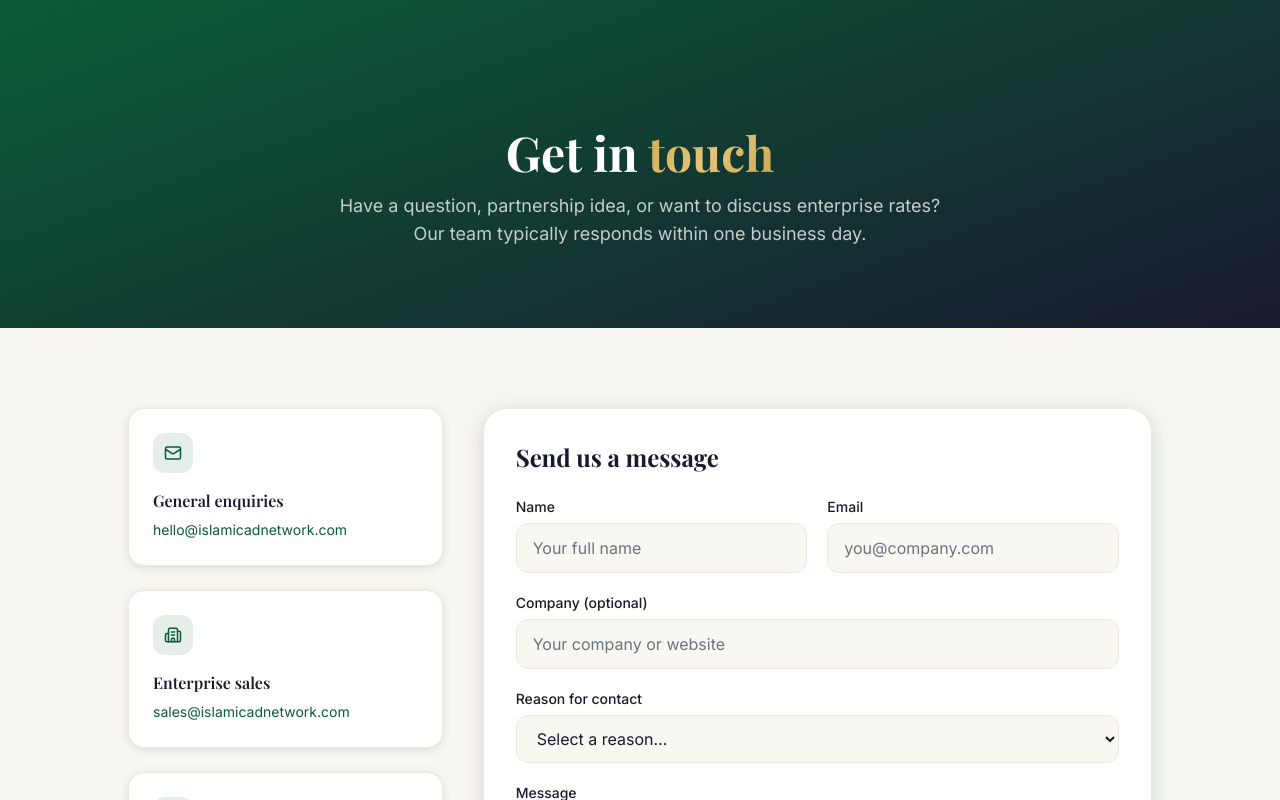
ContactForm › TC-C-096: shows success state after form submission
Type "Ahmad" into the field with placeholder "Your full name".
click(662, 548); type("Ahmad")  # box [516, 523, 807, 573]
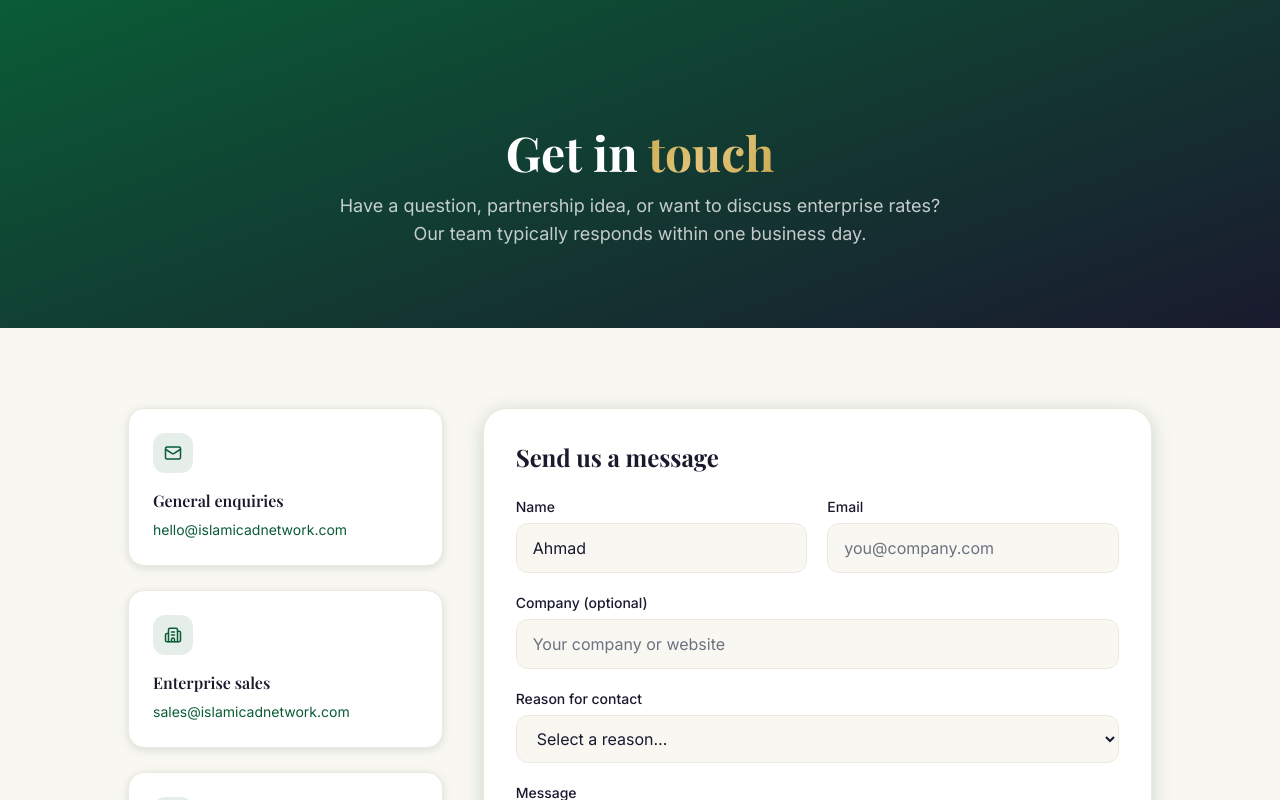
Type "a@b.com" into the field with placeholder "you@company.com".
click(973, 548); type("a@b.com")  # box [827, 523, 1119, 573]
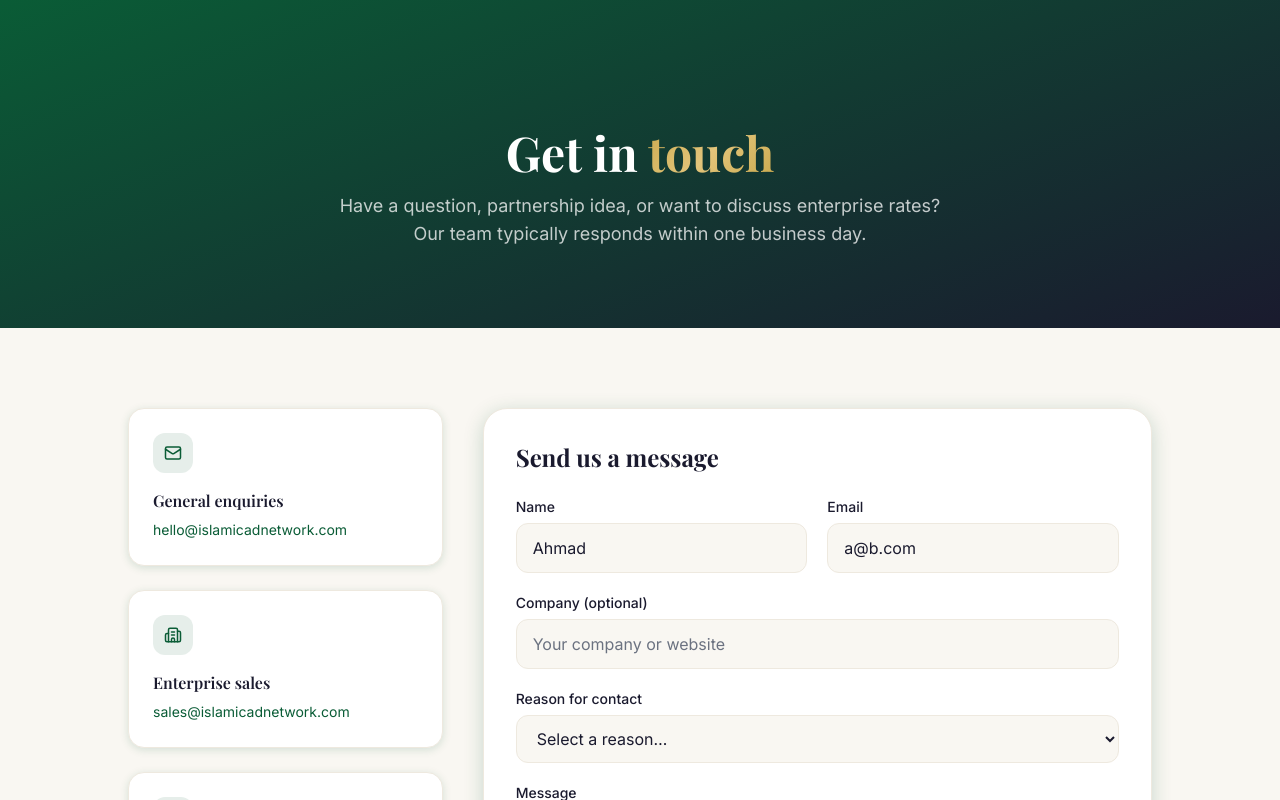
Select "I want to advertise" in the dropdown at [817, 739], box [516, 715, 1119, 763]
(page scrolled)
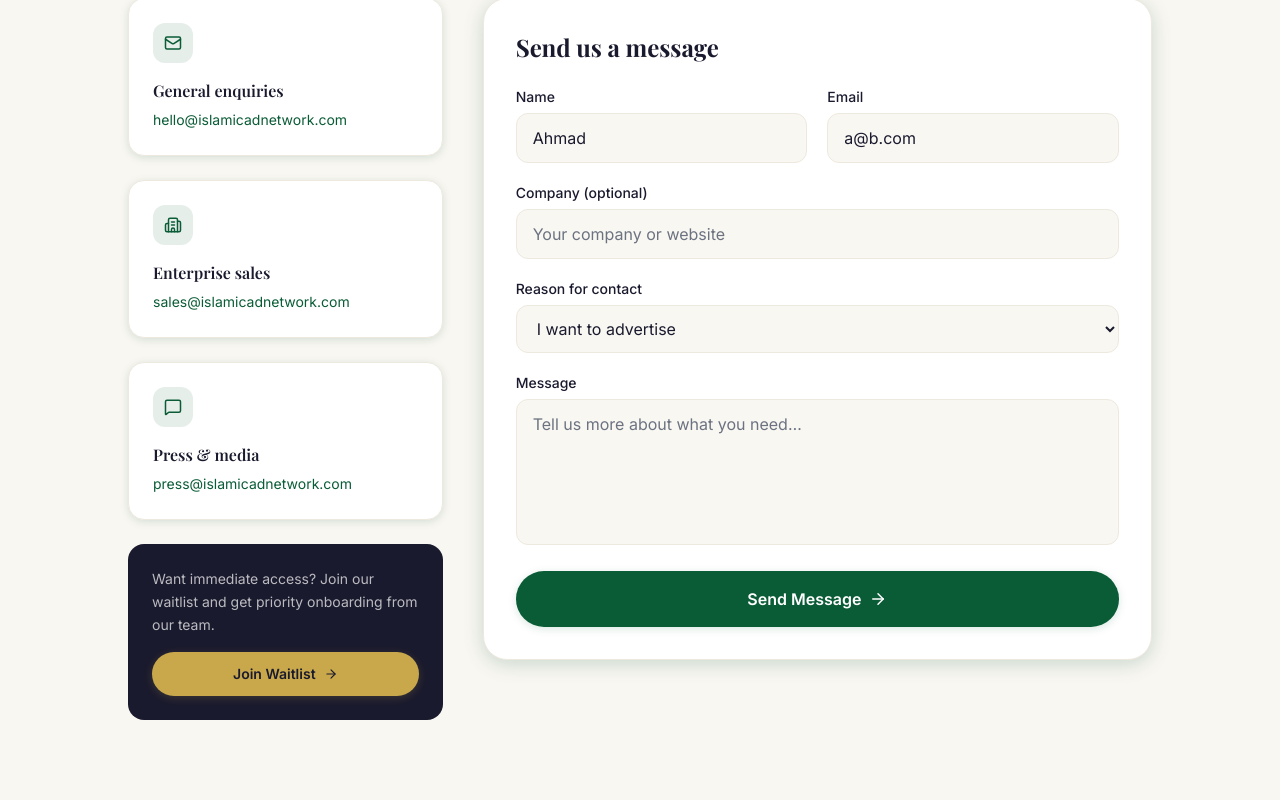
Type "Hello" into the text box with placeholder "Tell us more about what you need…".
click(817, 472); type("Hello")  # box [516, 399, 1119, 545]
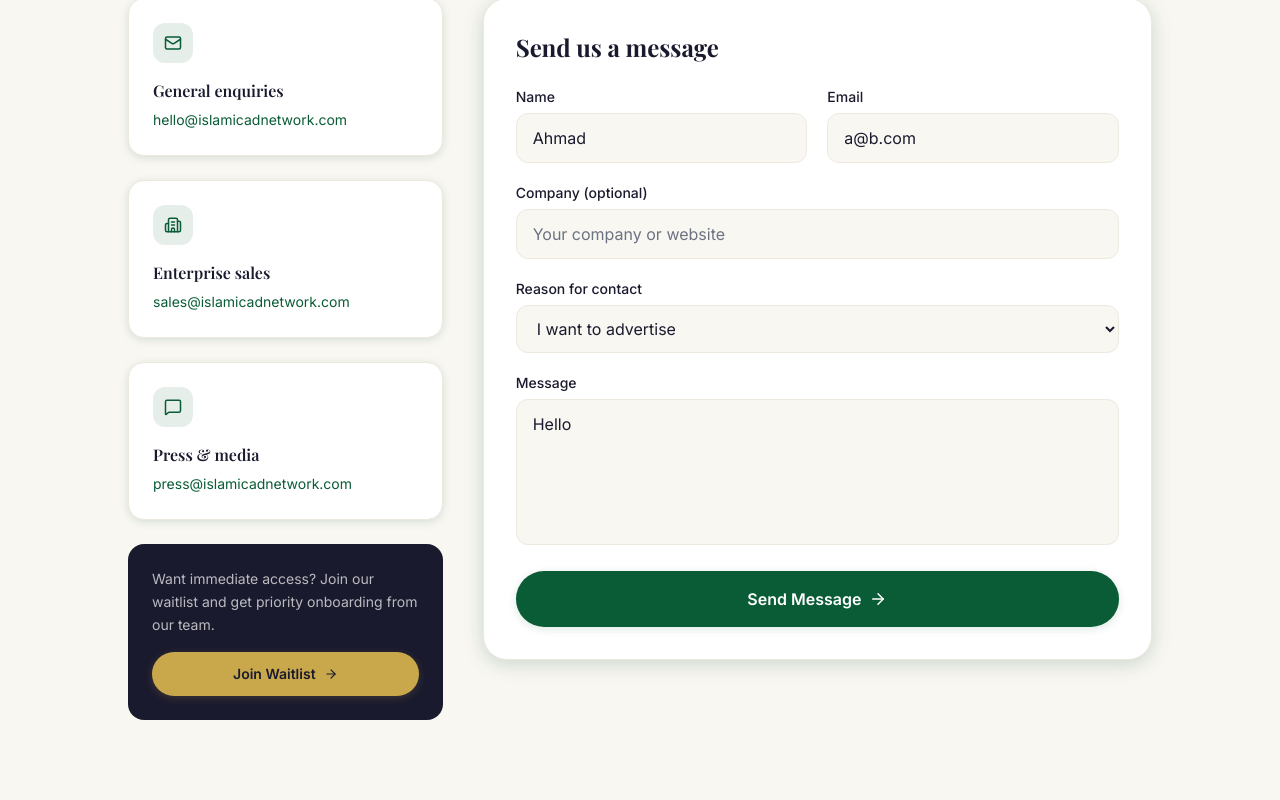
Submit the form "Send Message", box [516, 87, 1119, 627]
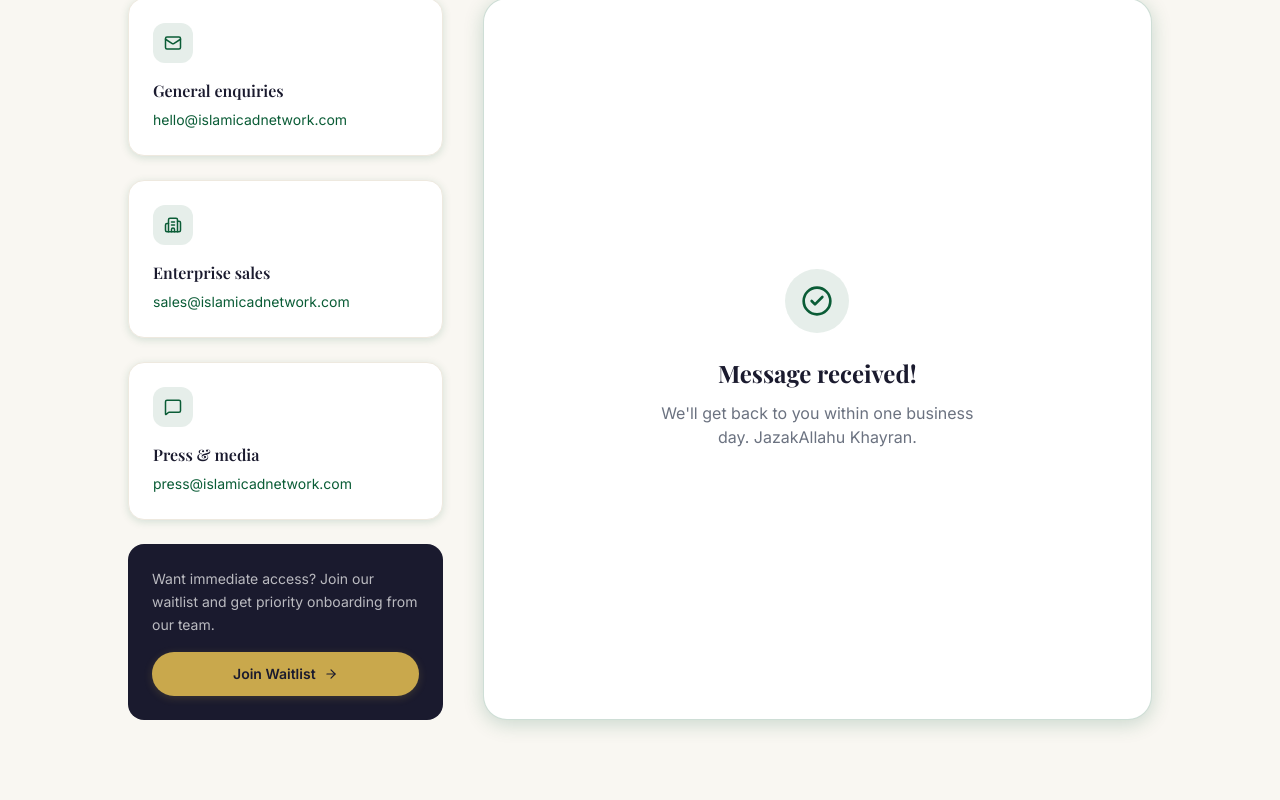
Check: the heading "Message received!" is shown, box [718, 357, 917, 389]
